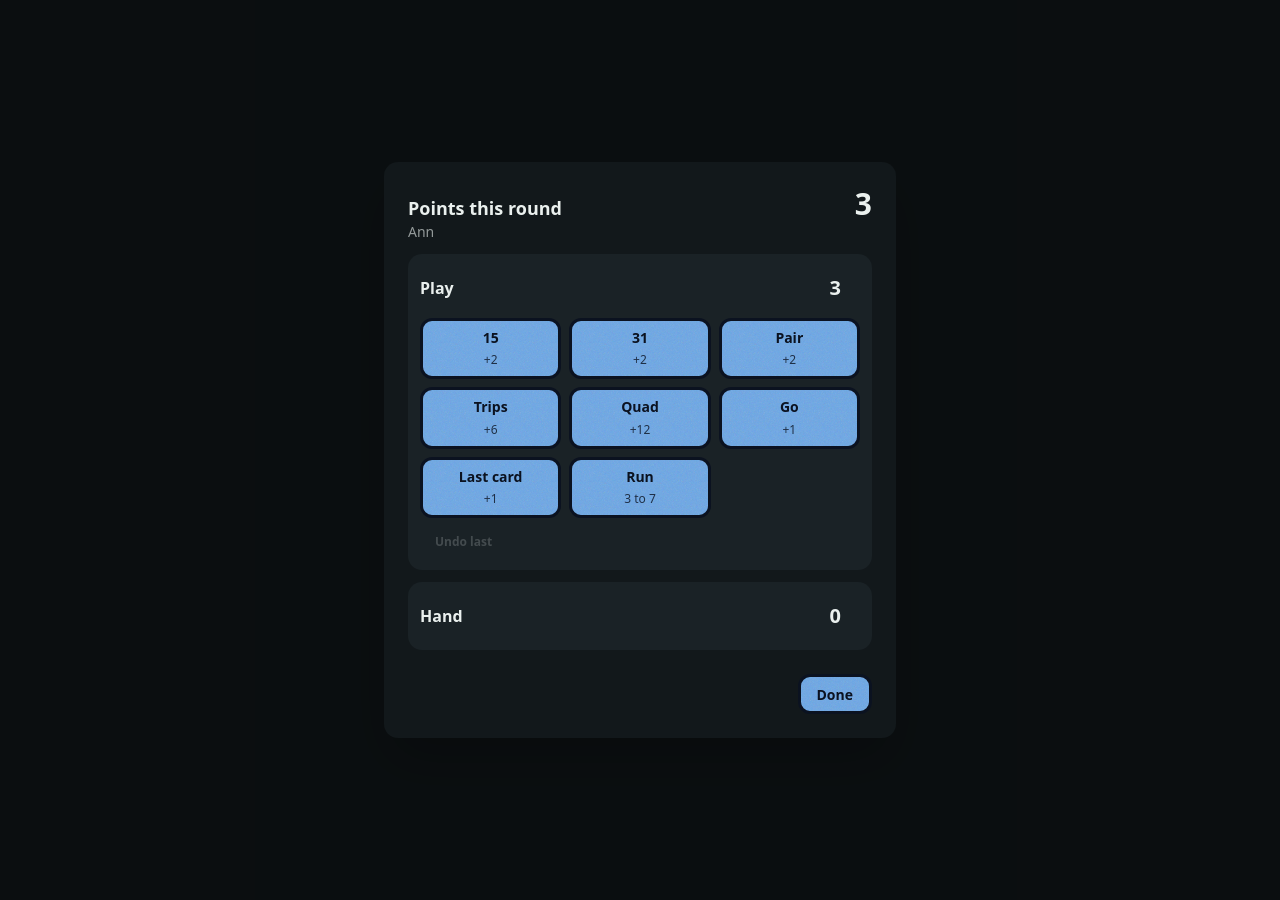
Scenario: PartSheet › Run asks for the length and scores that many points
The image size is (1280, 900).
Click the text "Run".
click(640, 477)  # box top-left (626, 468), bottom-right (654, 485)
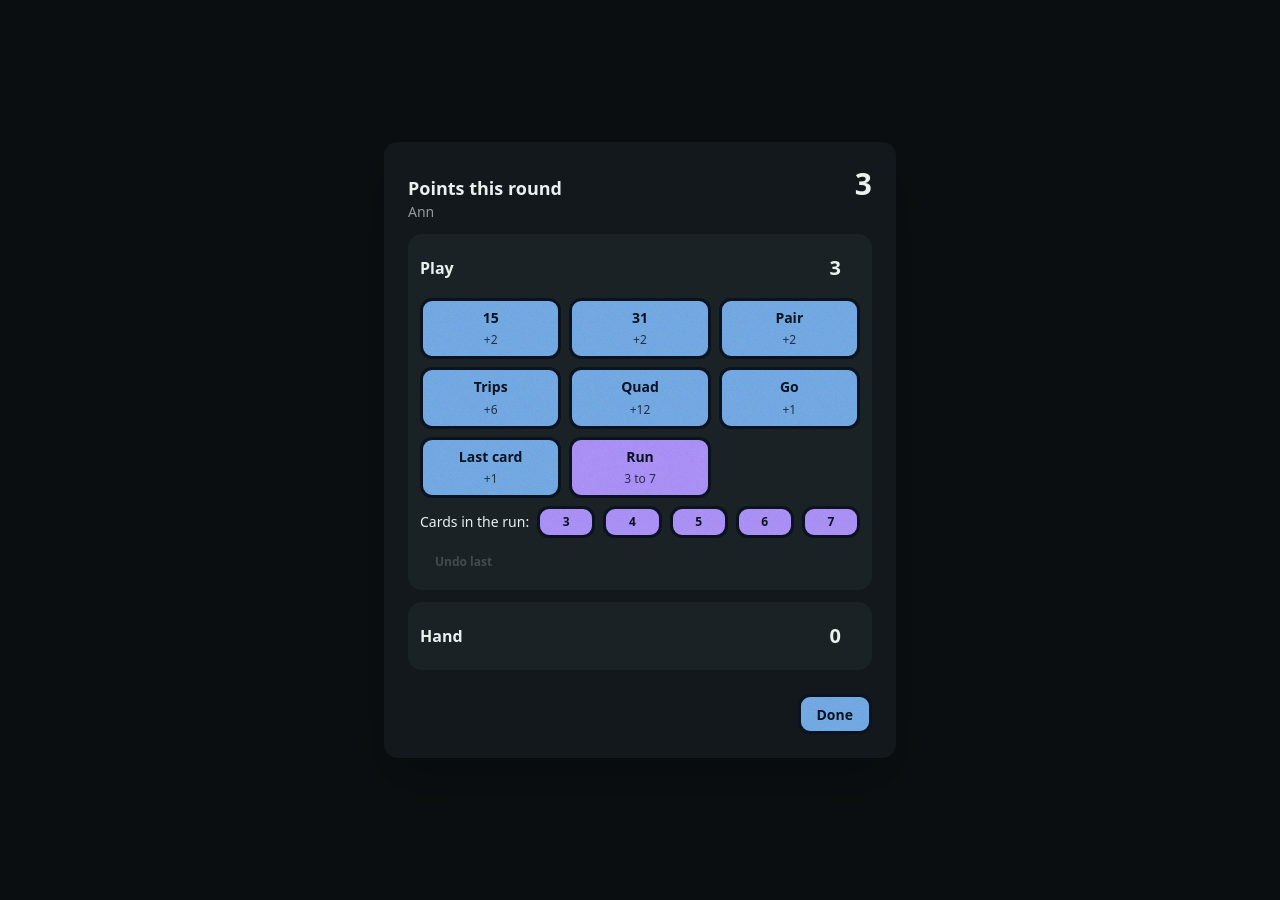
Click the button "5".
click(699, 522)  # box top-left (670, 506), bottom-right (728, 538)
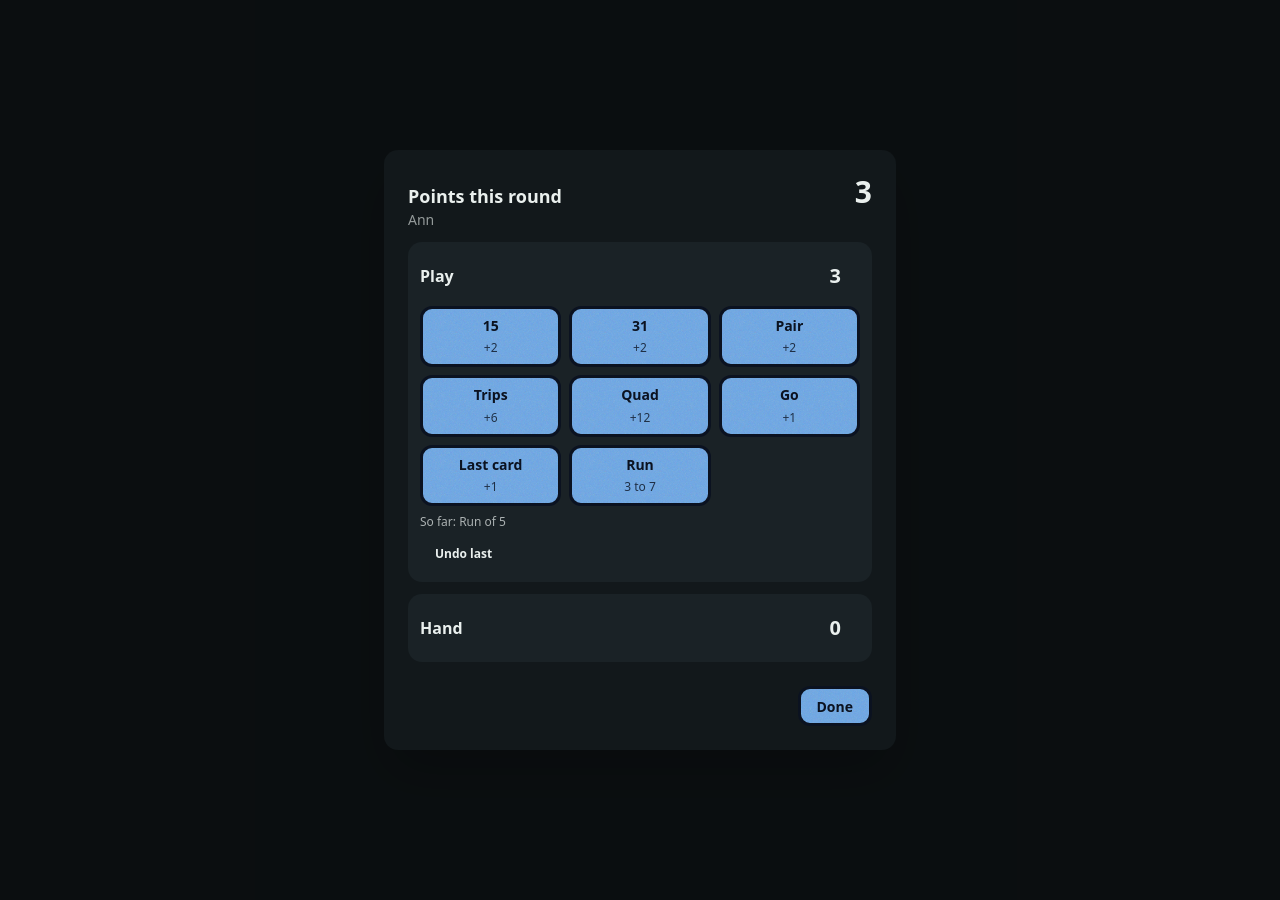
Result: the text with test id "peg-log" shows "Run of 5" at top-left (459, 513), bottom-right (506, 530)
Result: the element with test id "run-lengths" is gone
